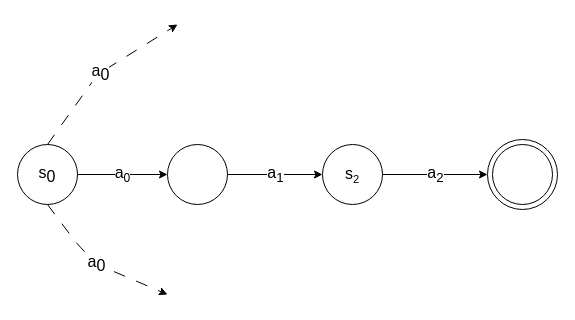
Some shapes in this 575 by 320 pixel diagram are drawn without their labels. Each missing label, with the centre of its shape:
"s 1" goes at (x=197, y=174).
"s 3" goes at (x=522, y=174).
